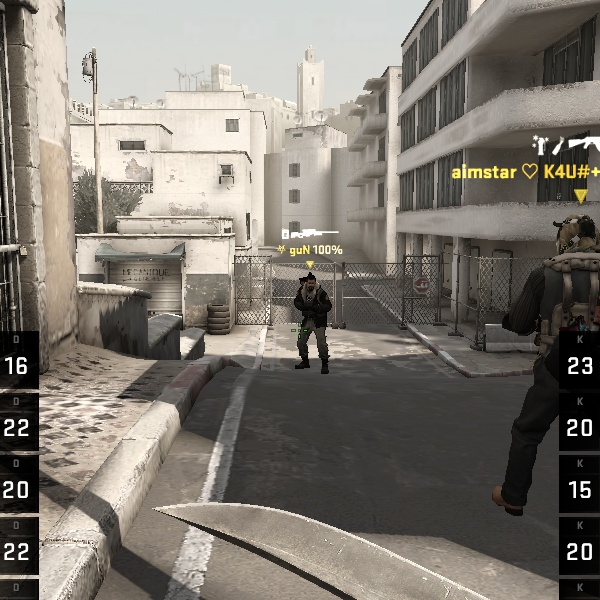t_body: (488, 203, 599, 536), (281, 268, 341, 375)
t_head: (549, 207, 600, 274)
